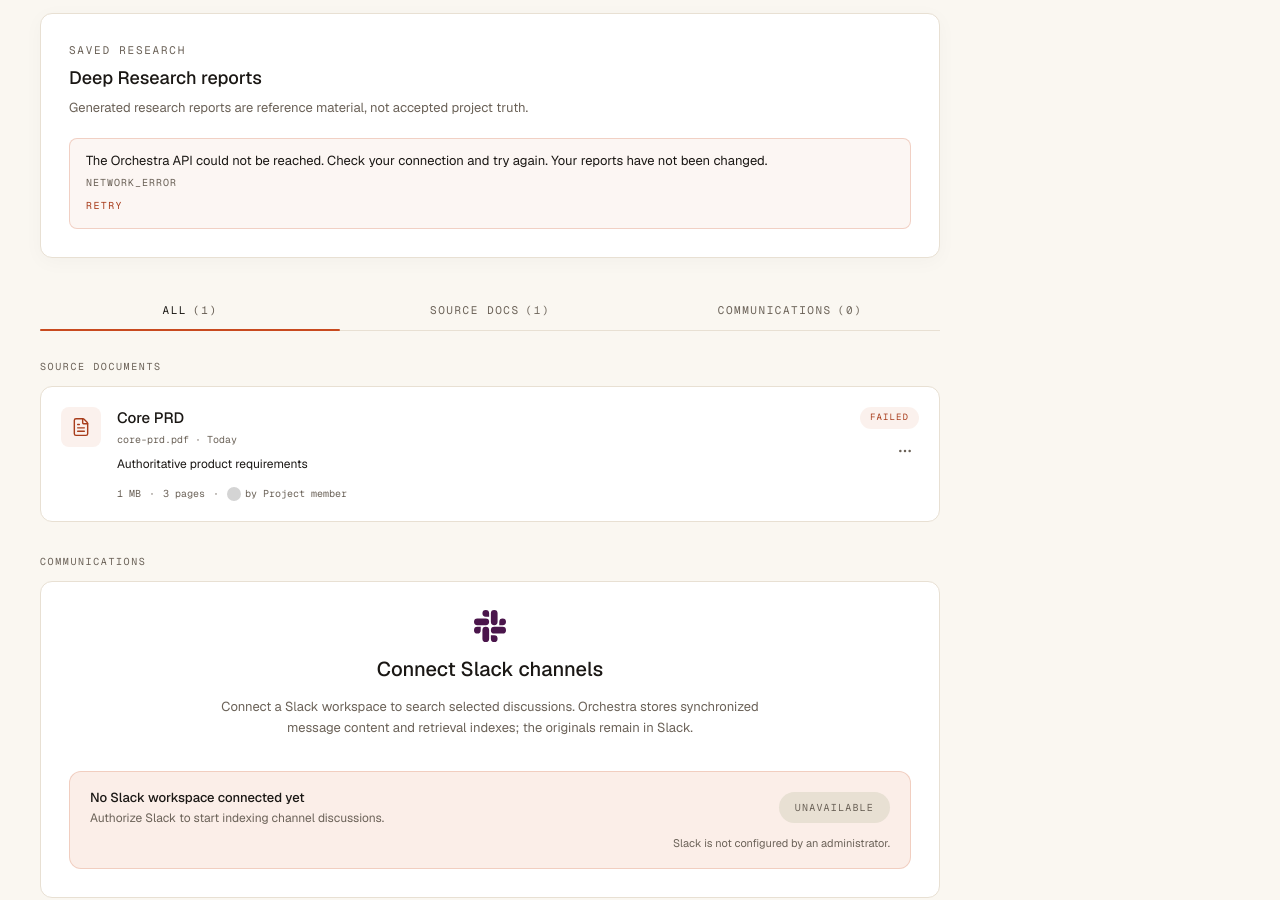
Test: [FIX-20] Memory document persistence › retries a failed desktop document without deleting or uploading it again
(page scrolled)
Click the button named "Open actions for Core PRD" at (905, 451), box [891,437,919,465]
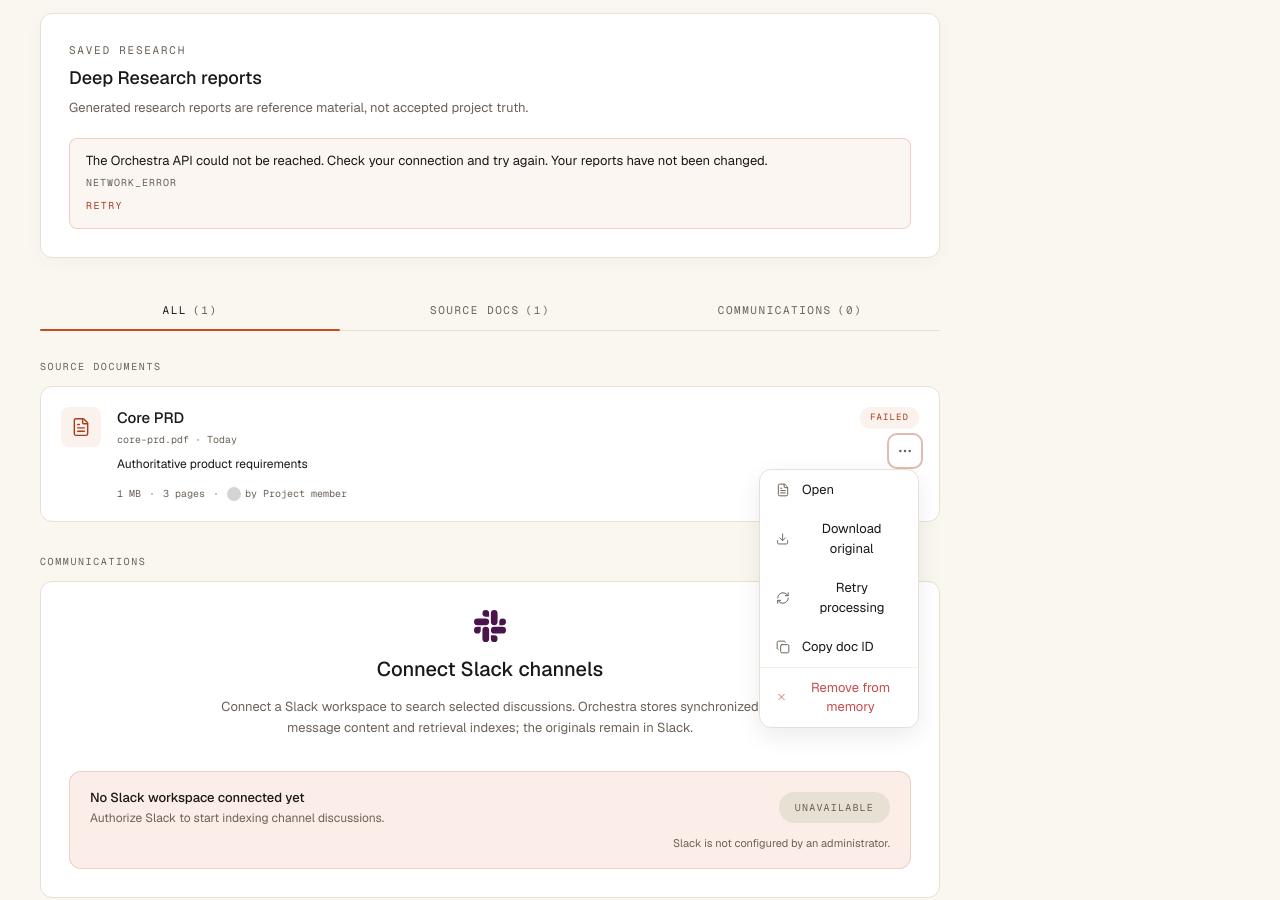
Click the button "Retry processing" at (839, 598), box [760,568,918,627]
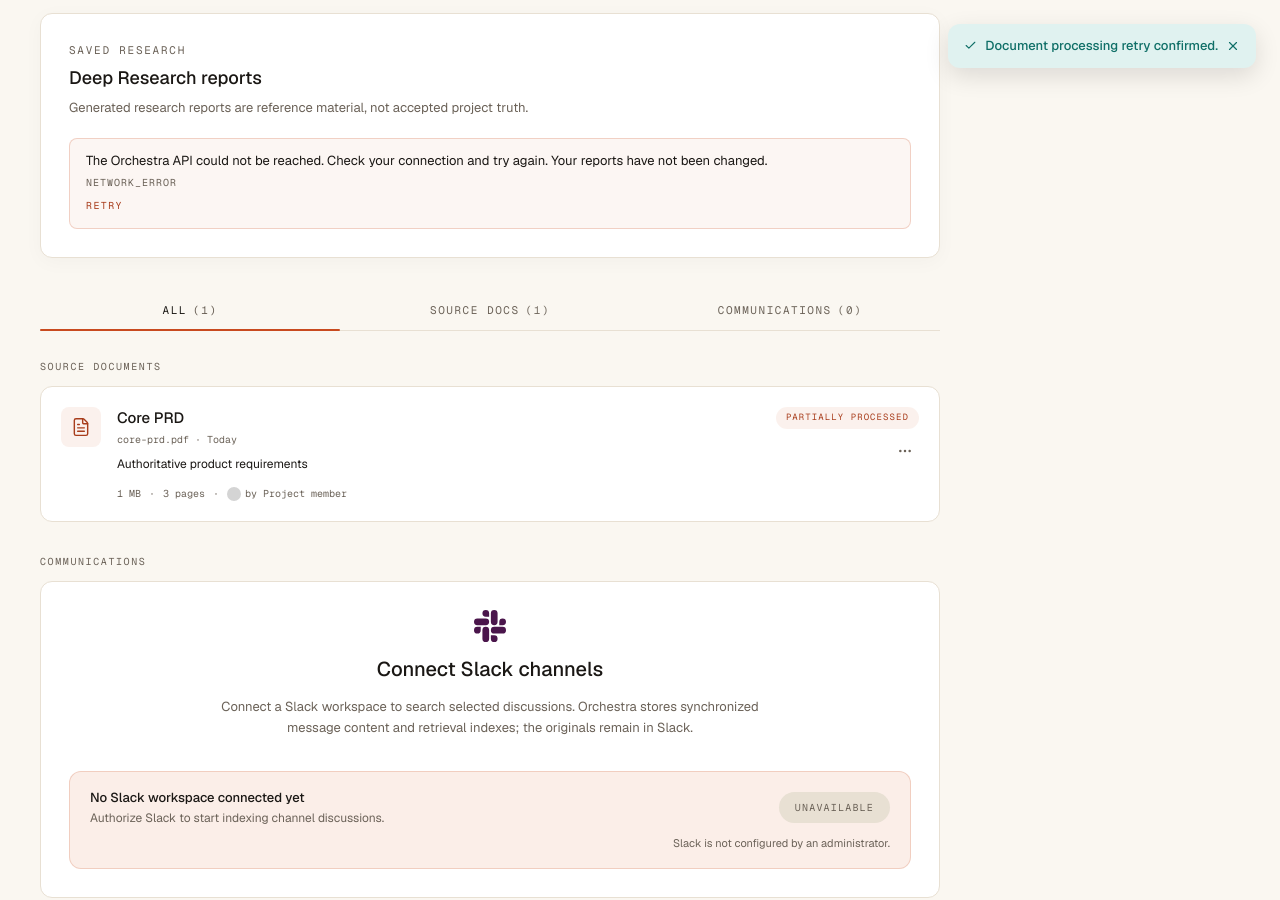
Now the text "Partially processed" is shown, box [776,407,919,429]
